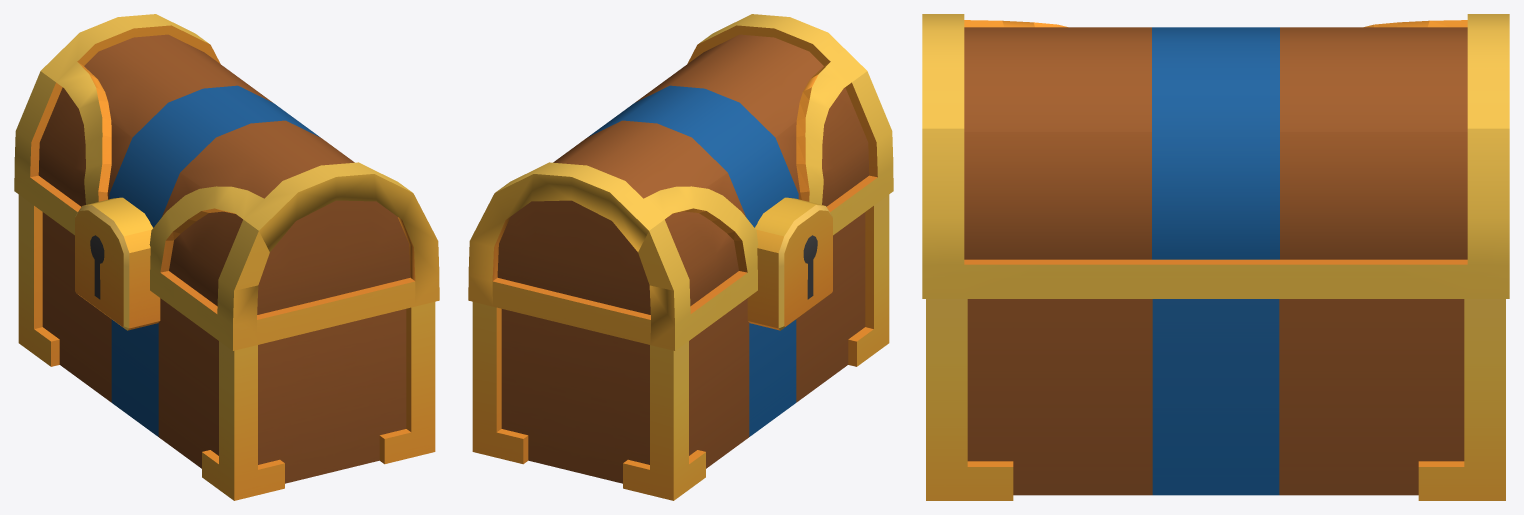
File: Treasure_Chest.FBX
The picture shows the model from 3 angles, left to right: view 1: azimuth 30°, elevation 25°; view 2: azimuth 150°, elevation 25°; view 3: azimuth 270°, elevation 25°; orthographic projection. The views are drawn at different scales.
Parts seen in each view (by area): view 1: Treasure_Chest; view 2: Treasure_Chest; view 3: Treasure_Chest.
Part boxes in pixels (x1,y1,x2,y2): Treasure_Chest: (14, 14, 439, 500); Treasure_Chest: (468, 14, 893, 500); Treasure_Chest: (922, 14, 1509, 500).
Bounding box in the file's own units: 0.8111 × 1 × 1.32.
